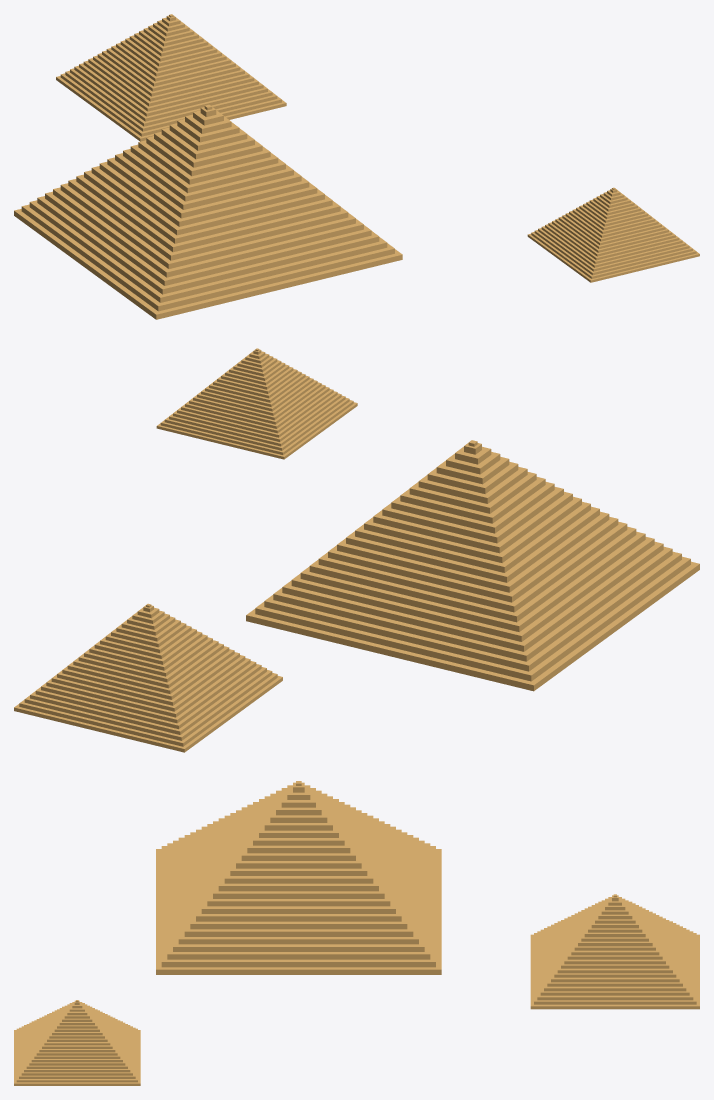
File: piramide.FBX
The picture shows the model from 3 angles, top to bottom: view 1: azimuth 30°, elevation 25°; view 2: azimuth 150°, elevation 25°; view 3: azimuth 270°, elevation 25°; orthographic projection. The views are drawn at different scales.
Visible parts, largest first — view 1: piramide1, piramide2, piramide3; view 2: piramide1, piramide2, piramide3; view 3: piramide1, piramide2, piramide3.
Part boxes in pixels (box(x1,y1,x2,y2)): piramide1: box(14, 104, 402, 319); piramide2: box(56, 14, 286, 141); piramide3: box(527, 187, 699, 282); piramide1: box(246, 440, 699, 691); piramide2: box(14, 603, 282, 752); piramide3: box(156, 348, 357, 459); piramide1: box(156, 781, 441, 974); piramide2: box(530, 894, 699, 1009); piramide3: box(14, 1000, 140, 1085).
Size of the model in its own units: 238 by 63.34 by 298.
